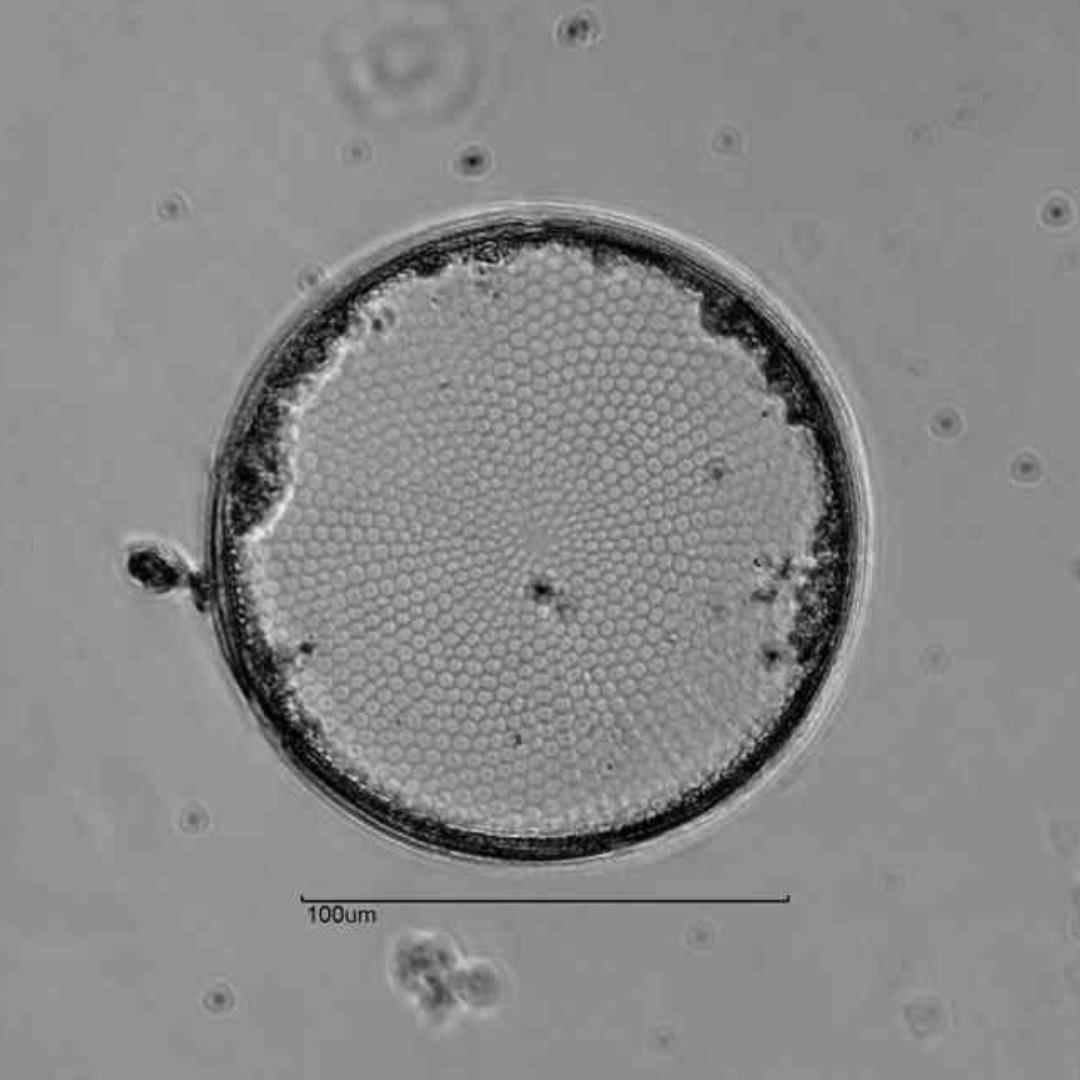coscinodiscus_oculus_iridis: (203, 215, 859, 870)
